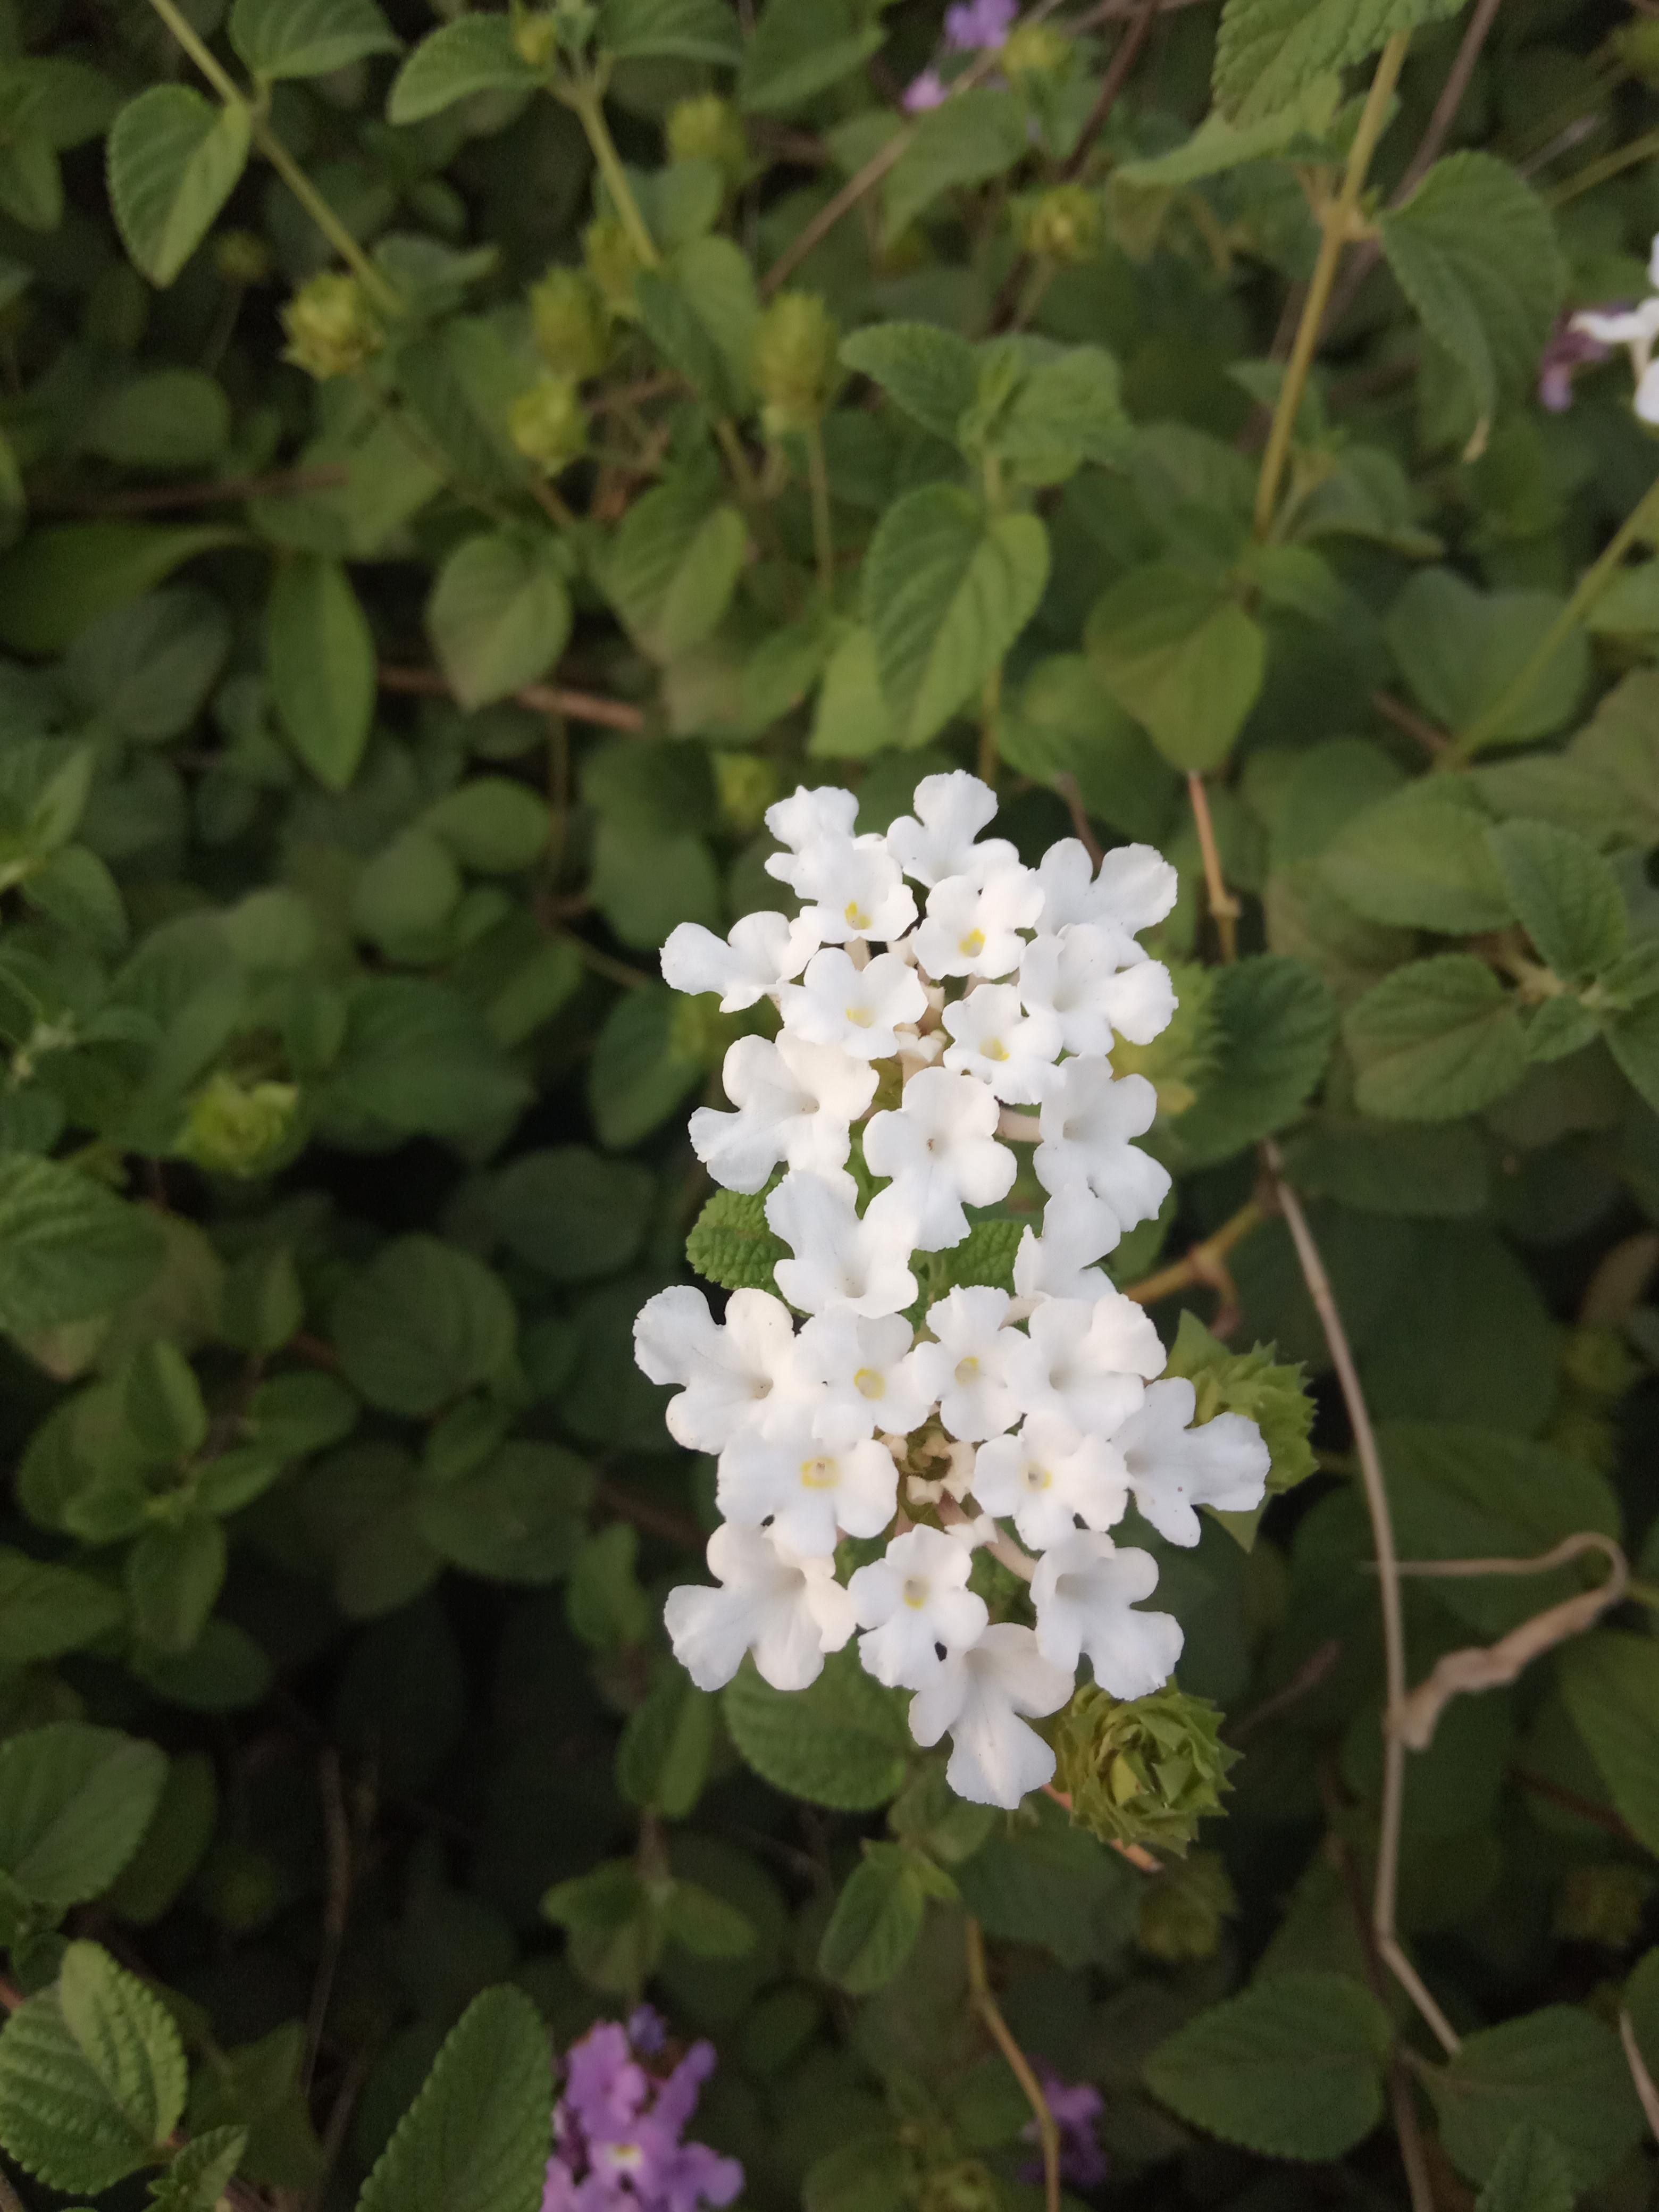lantana: (666, 1529, 854, 1691), (688, 1035, 875, 1186), (910, 1627, 1070, 1803), (629, 1285, 791, 1449), (870, 1069, 1014, 1249), (1114, 1379, 1270, 1543), (1033, 1540, 1187, 1702), (718, 1418, 899, 1550), (850, 1524, 990, 1688), (767, 1174, 918, 1315), (1033, 1057, 1166, 1217), (1019, 930, 1176, 1050), (1018, 1299, 1164, 1426), (976, 1421, 1124, 1545), (798, 1303, 932, 1439), (925, 1285, 1039, 1444), (781, 956, 927, 1055), (948, 988, 1070, 1097), (913, 874, 1040, 975), (659, 918, 805, 1005), (795, 840, 911, 939)
